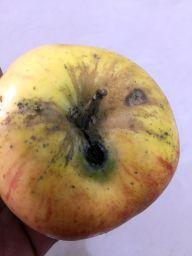apple: (0, 25, 192, 252)
